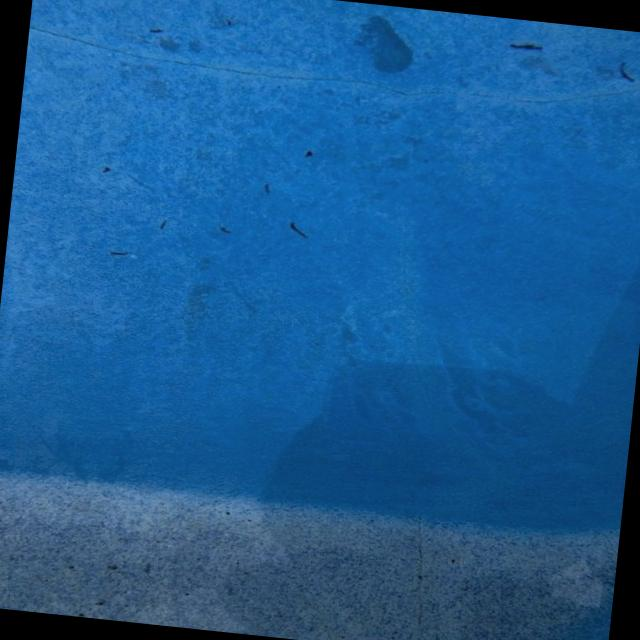crack: (24, 5, 640, 142), (398, 510, 436, 627)
